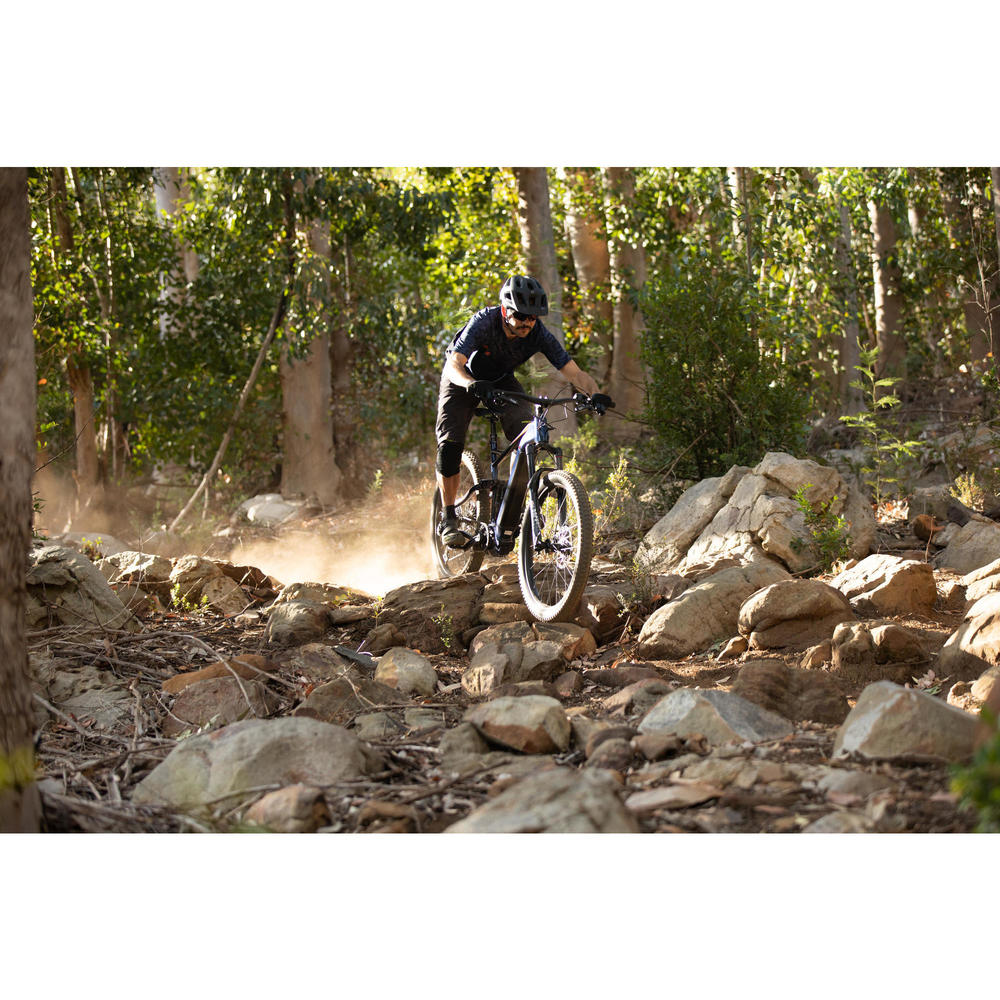MountainBike: (409, 385, 626, 619)
